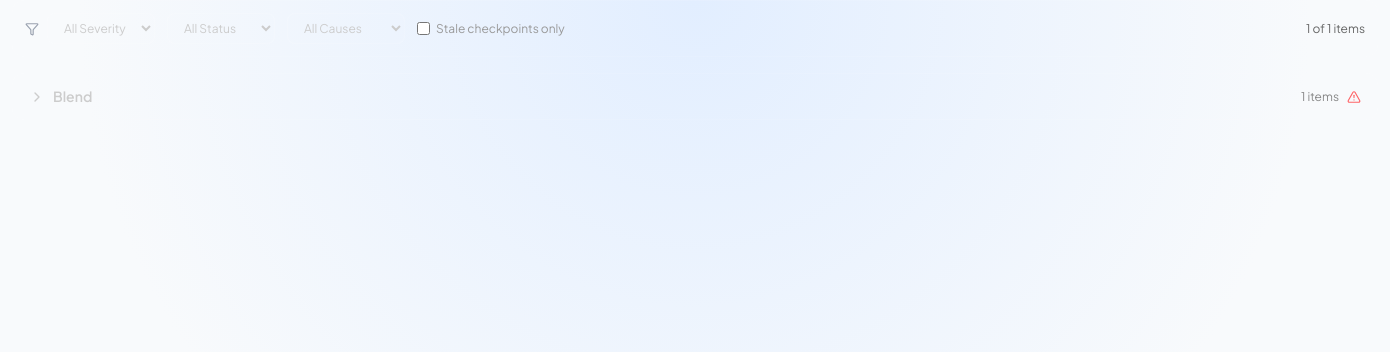
Test: PortfolioReconcile › critical state › renders rows with critical severity and alert icon
The image size is (1390, 352).
Click the button "Blend 1 items" at coordinates (73, 96), box [12,73,1378,120]
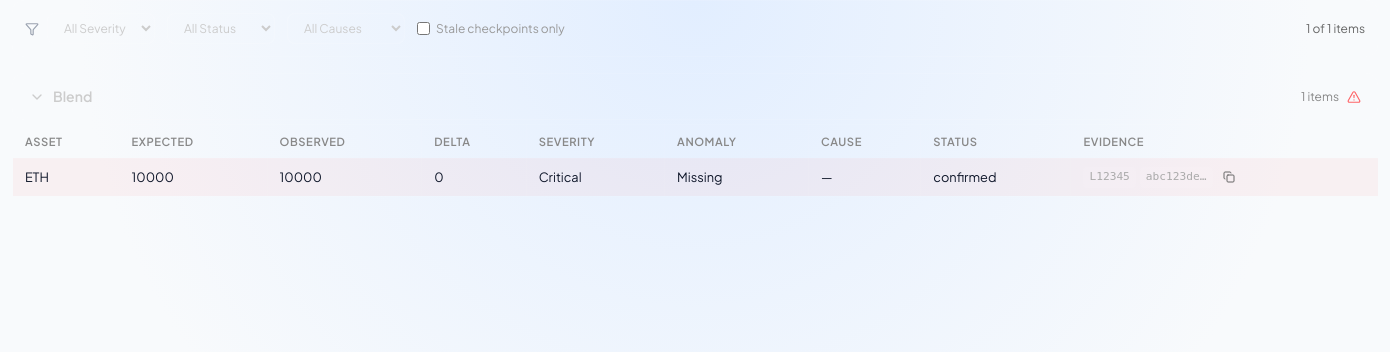
Expected: the text "Missing" is shown, [665,158,808,196]
